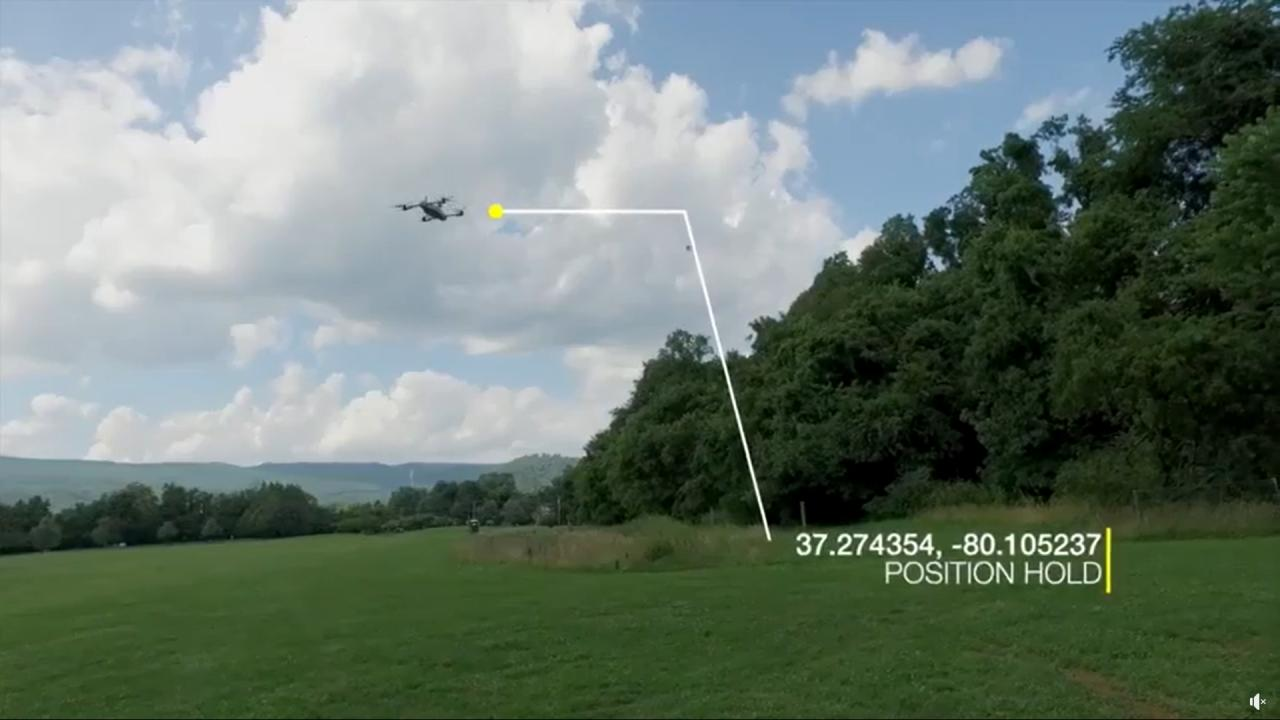Drone: (386, 185, 478, 236)
